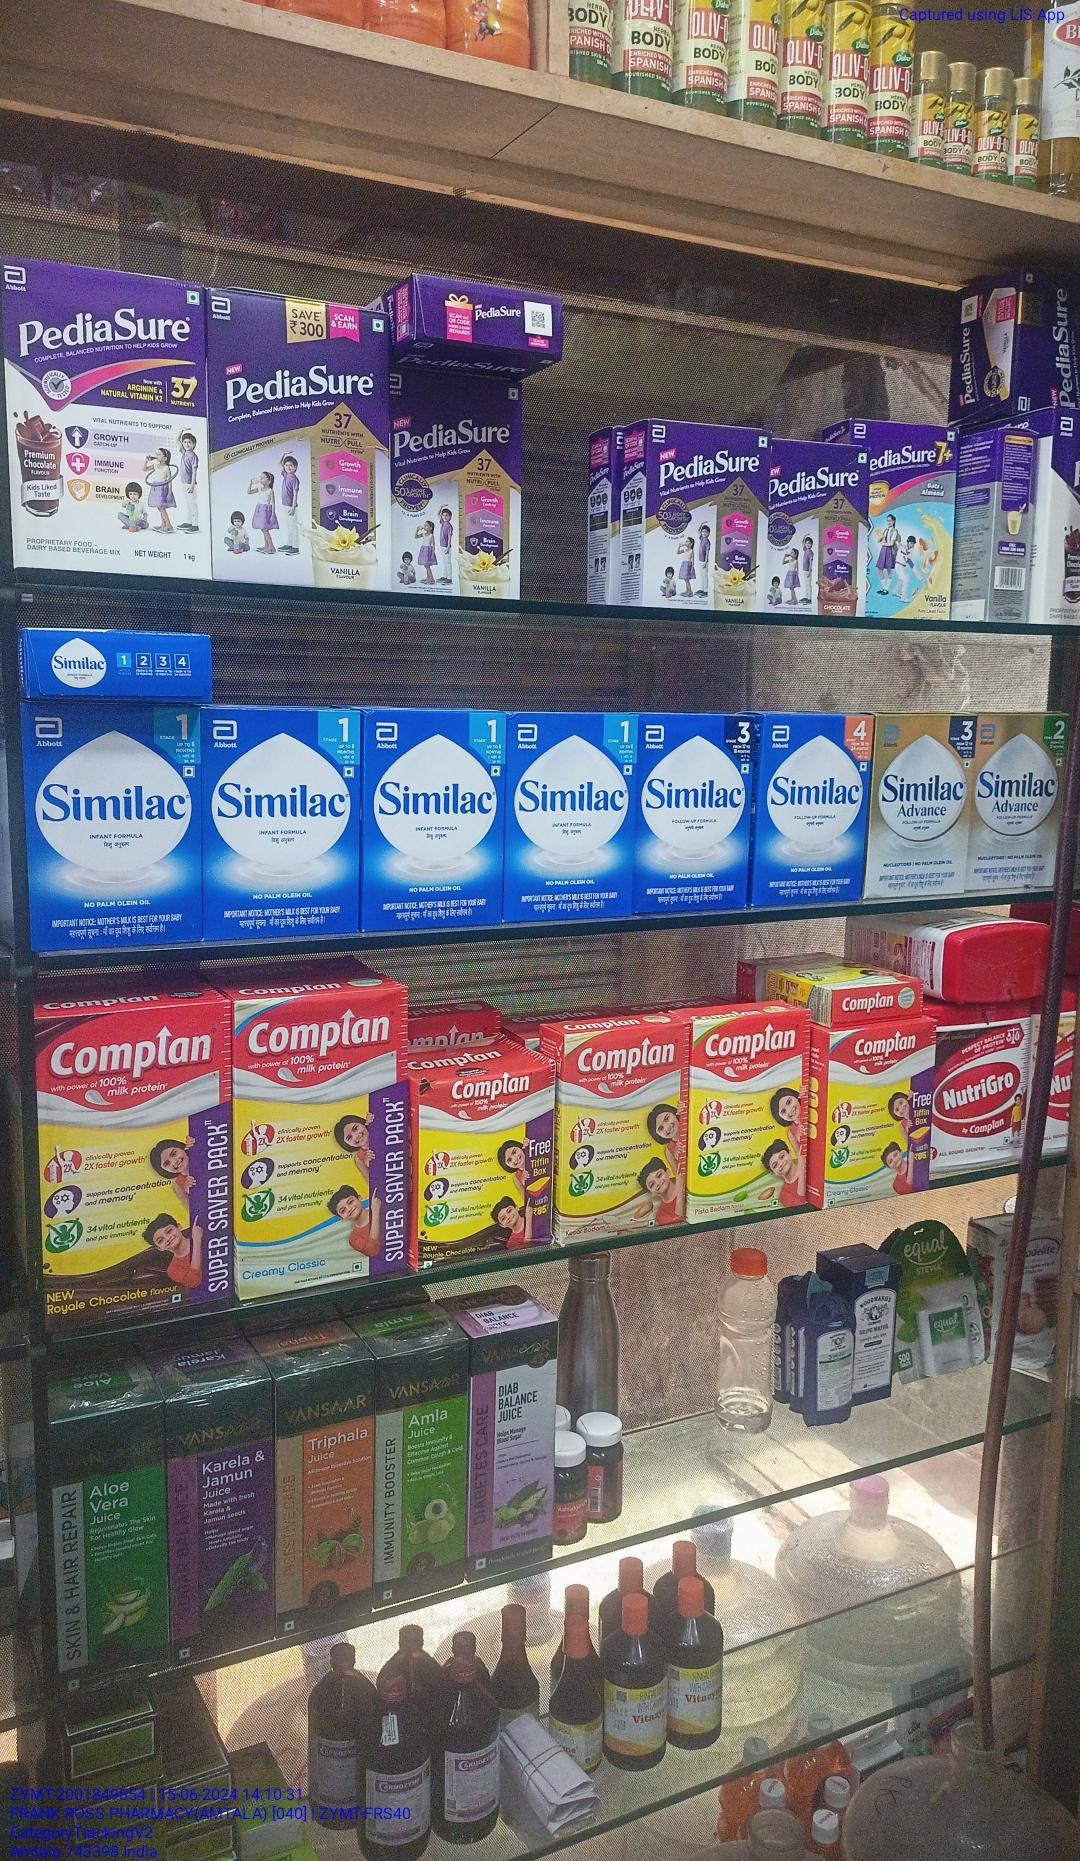COMPLAN_CHOCOLATE_1_KG_PACK: (37, 1011, 235, 1315)
COMPLAN_CHOCOLATE_500_GMS_PACK: (419, 1073, 557, 1261)
COMPLAN_CREAMY_CLASSIC_500_G_PACK: (824, 1032, 928, 1199)
COMPLAN_KESAR_BADAM_500_GMS_PACK: (562, 1023, 689, 1238)
COMPLAN_PISTA_BADAM_500_GMS_PACK: (693, 1014, 807, 1220)
PEDIASURE_CHOCOLATE_500_G_PACK: (765, 441, 868, 612)
PEDIASURE_VANILLA_500_G_PACK: (392, 366, 523, 607), (651, 423, 762, 612)
